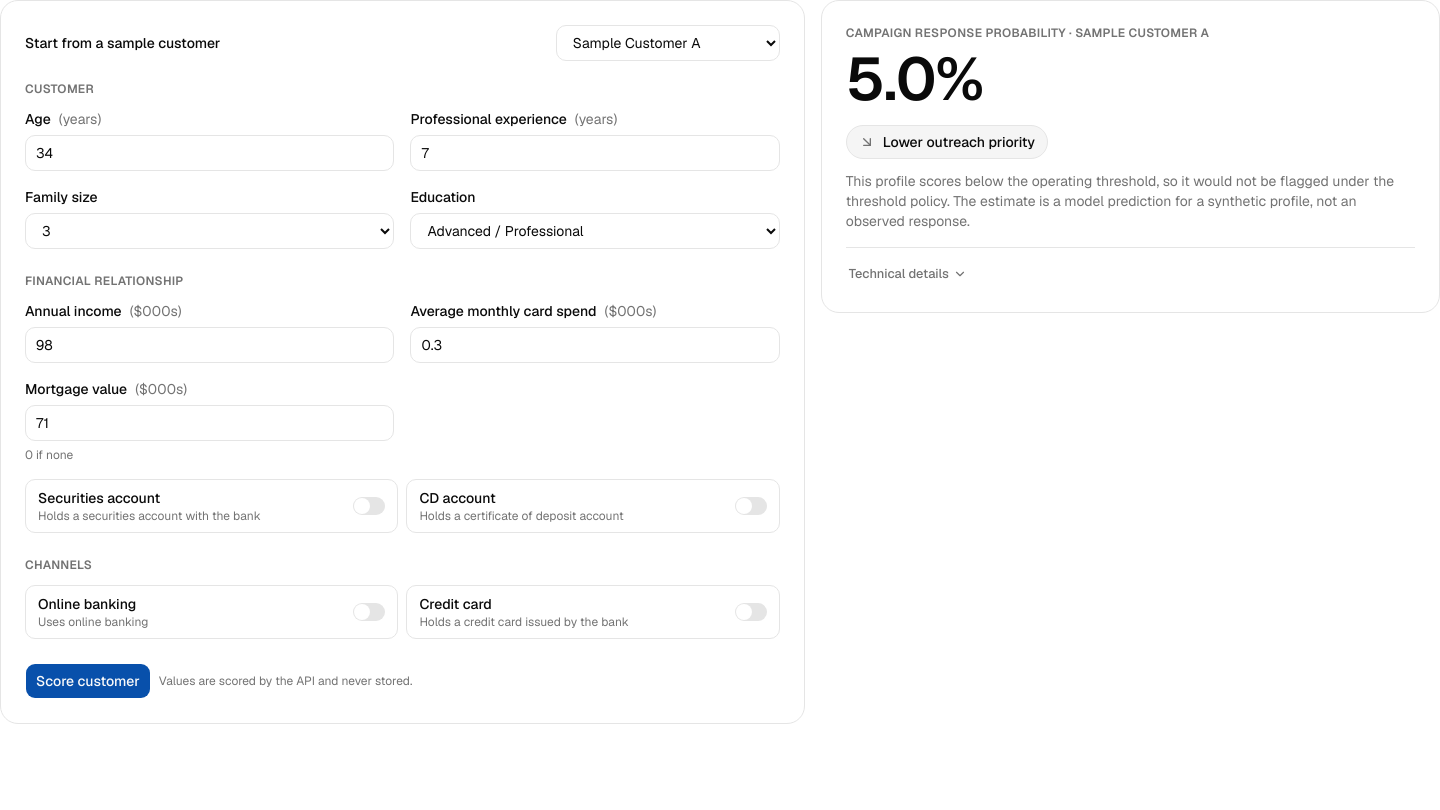
Scenario: CustomerExplorer › explains the threshold policy under technical details
This screenshot has width=1440, height=810.
Expected: the text "5.0%" is shown, [846,40,983,118]
Click the button "Technical details" at (906, 274), box [838,260,974,288]
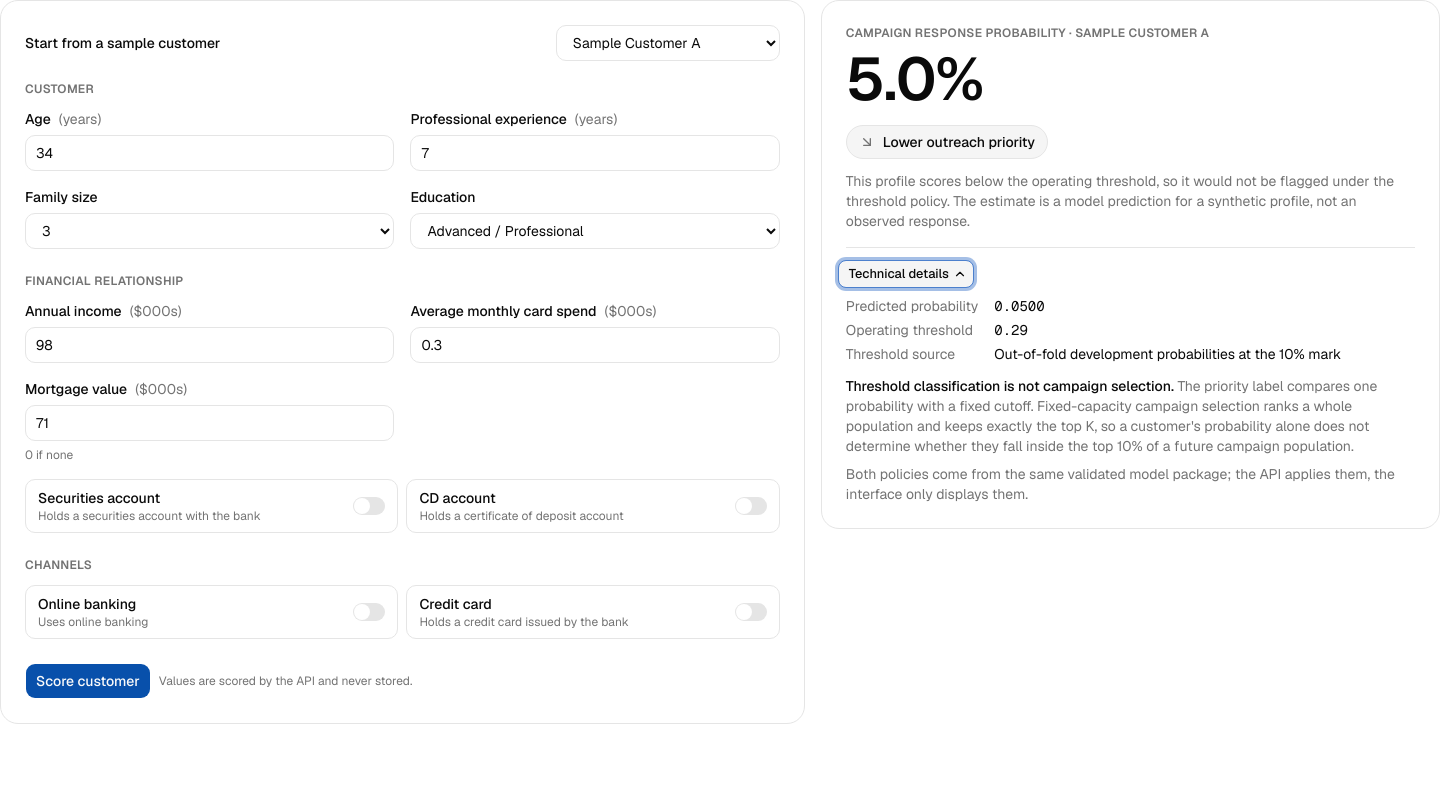
Result: the text "0.29" is shown at [994,321,1028,339]
Result: the text "does not determine whether they fall inside the top 10%" is shown at [846,377,1377,455]
